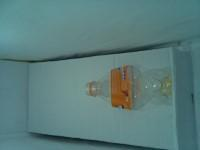bottle: (85, 63, 172, 110)
